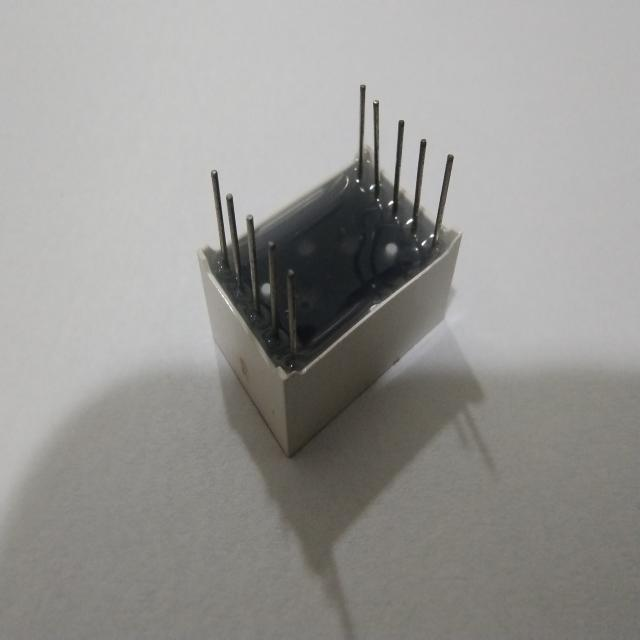7_segments: (187, 69, 468, 474)
